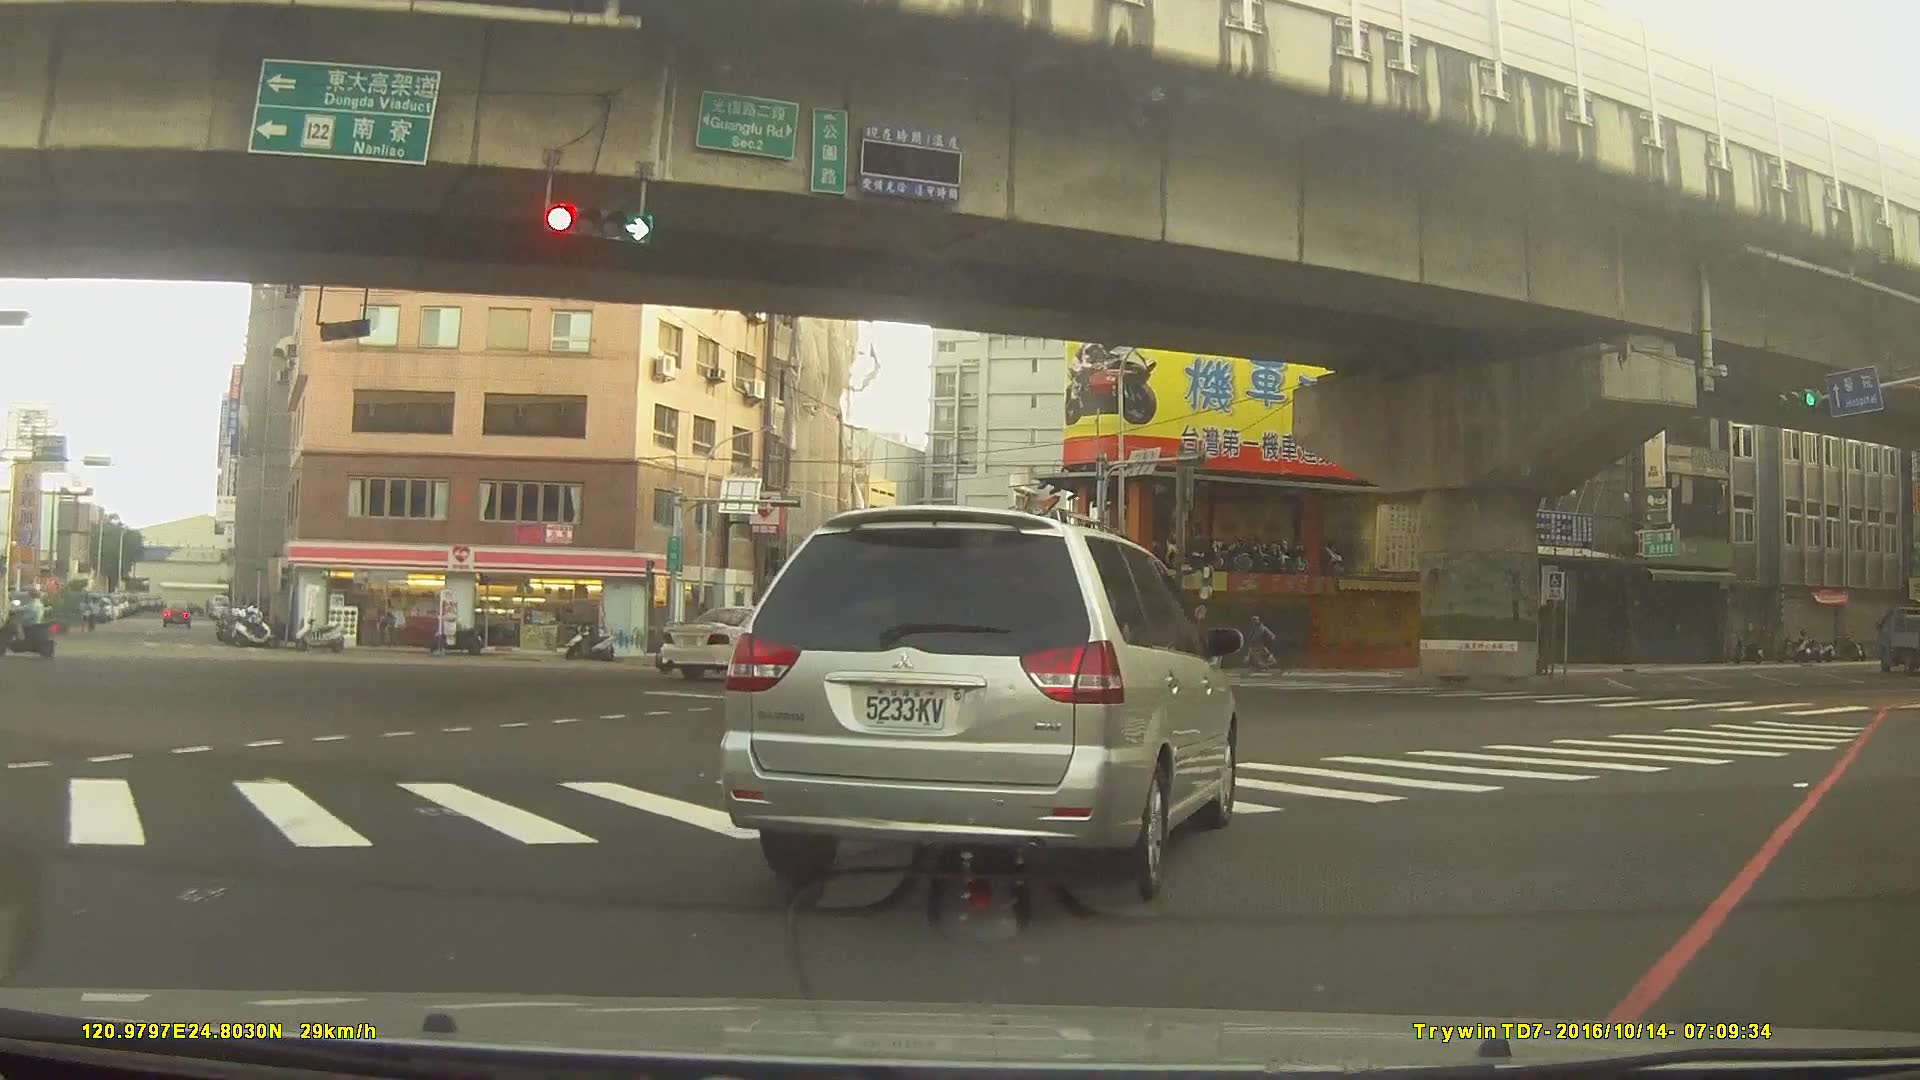rider: (653, 597, 721, 671), (5, 584, 65, 663), (1233, 615, 1289, 679)
vehicle: (719, 504, 1235, 906), (660, 602, 830, 678), (1872, 608, 1920, 672), (834, 632, 906, 673), (158, 596, 189, 624)
